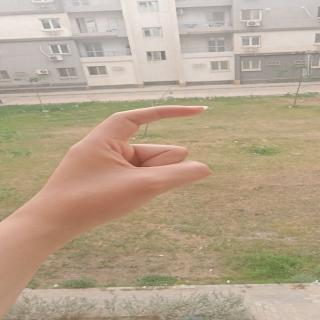RAA: (60, 101, 234, 224)
